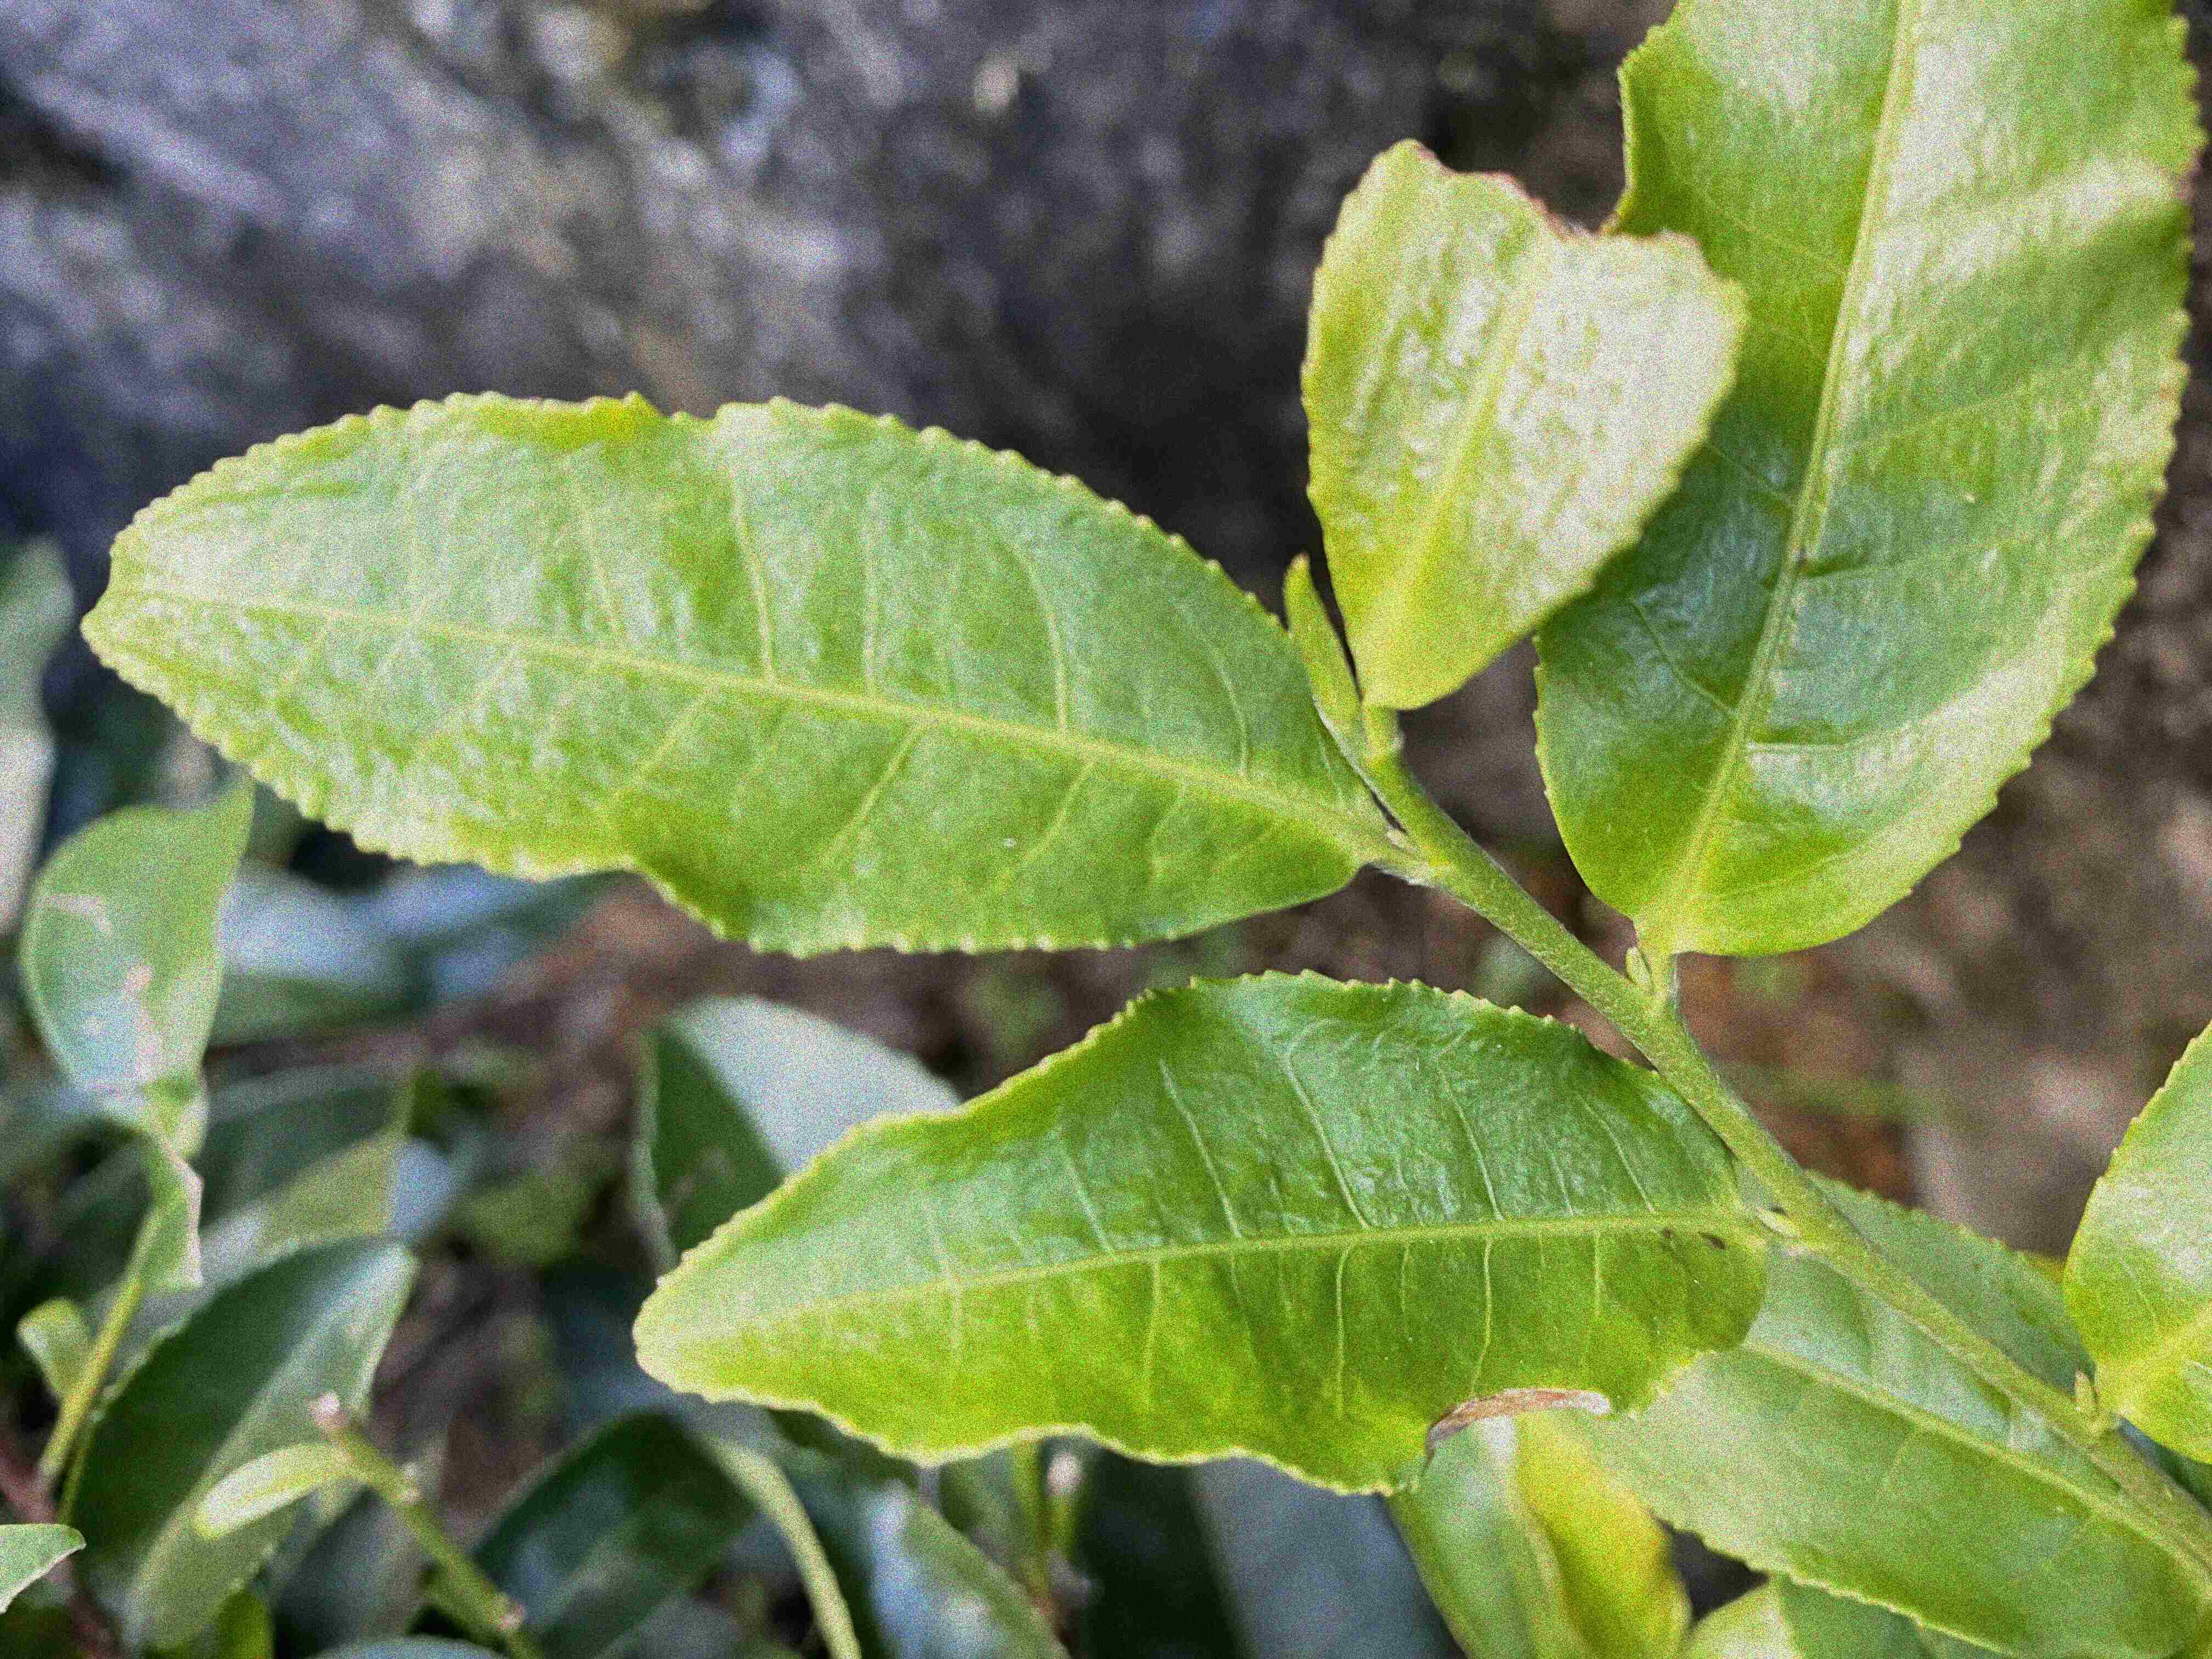chihuo_high: (1299, 138, 1750, 713)
healthy: (73, 387, 1379, 958)
tanju_high: (629, 967, 1773, 1502)
